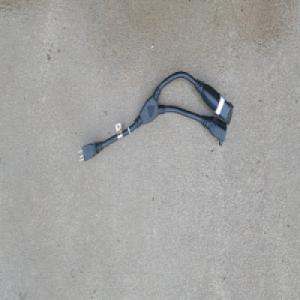Wire: (76, 69, 234, 164)
